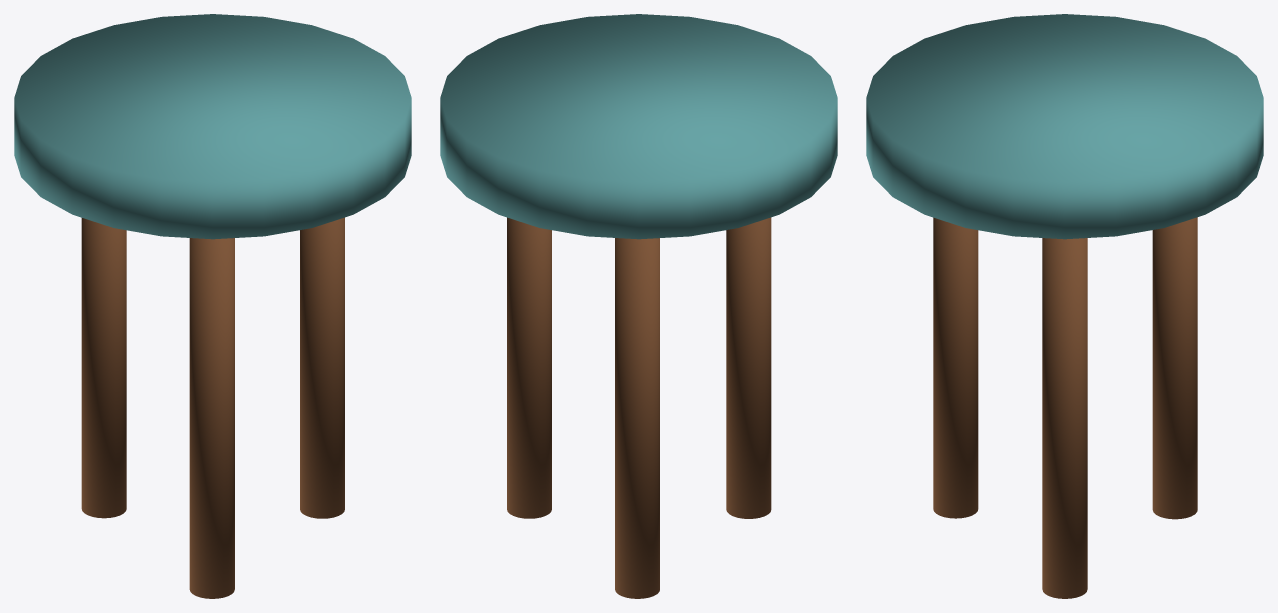
The model's file is stool.glb.
3 views of the same model, side by side, from view 1: azimuth 30°, elevation 25°; view 2: azimuth 150°, elevation 25°; view 3: azimuth 270°, elevation 25° (orthographic).
Parts seen in each view (by area): view 1: seat, leg.001, leg.002, leg; view 2: seat, leg.002, leg.001, leg; view 3: seat, leg, leg.002, leg.001.
Boxes of the visible parts, x1=… form: seat: x1=14, y1=14, x2=411, y2=239; leg.001: x1=189, y1=238, x2=234, y2=598; leg.002: x1=81, y1=218, x2=126, y2=518; leg: x1=300, y1=217, x2=344, y2=518; seat: x1=440, y1=14, x2=837, y2=239; leg.002: x1=615, y1=238, x2=659, y2=598; leg.001: x1=726, y1=217, x2=771, y2=518; leg: x1=507, y1=217, x2=551, y2=518; seat: x1=866, y1=14, x2=1263, y2=239; leg: x1=1042, y1=238, x2=1087, y2=598; leg.002: x1=1152, y1=217, x2=1197, y2=519; leg.001: x1=933, y1=217, x2=978, y2=518.
Size of the model in its own units: 0.44 by 0.535 by 0.44.
